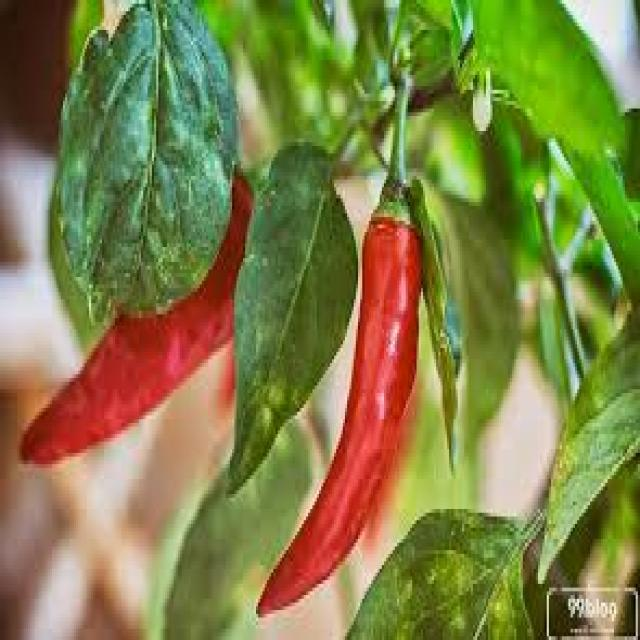Mosaic_virus: (41, 0, 640, 570)
